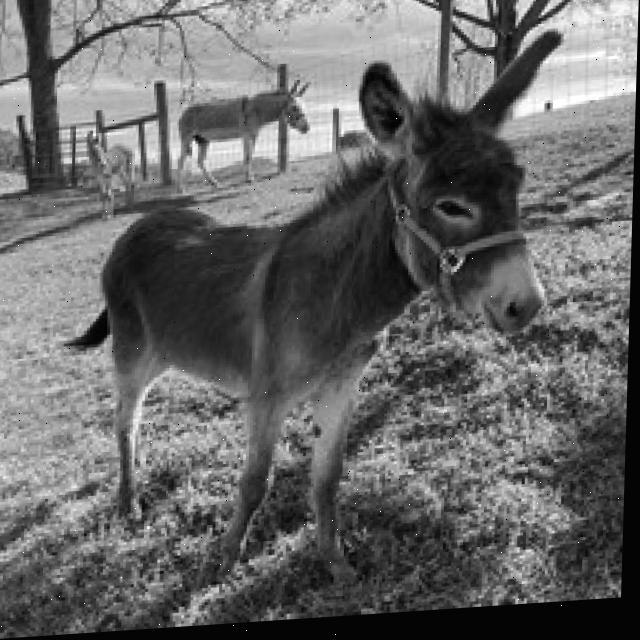Donkey: (53, 25, 561, 606), (174, 76, 308, 191), (82, 125, 136, 220)
